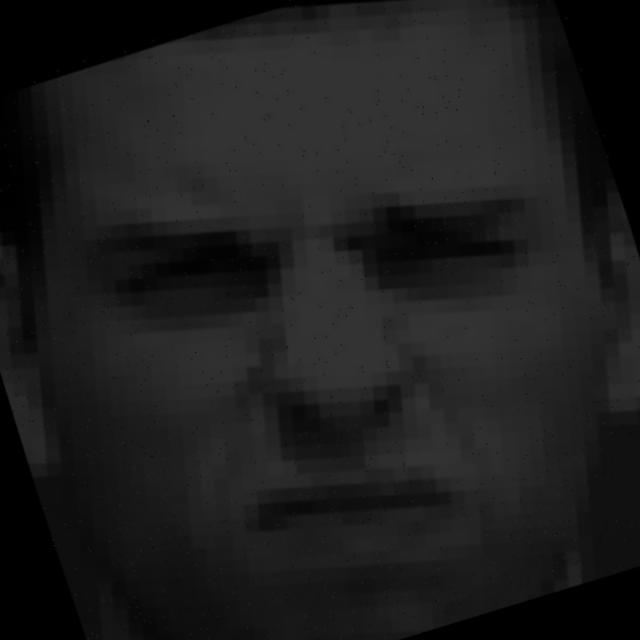Disgust: (63, 150, 640, 624)
